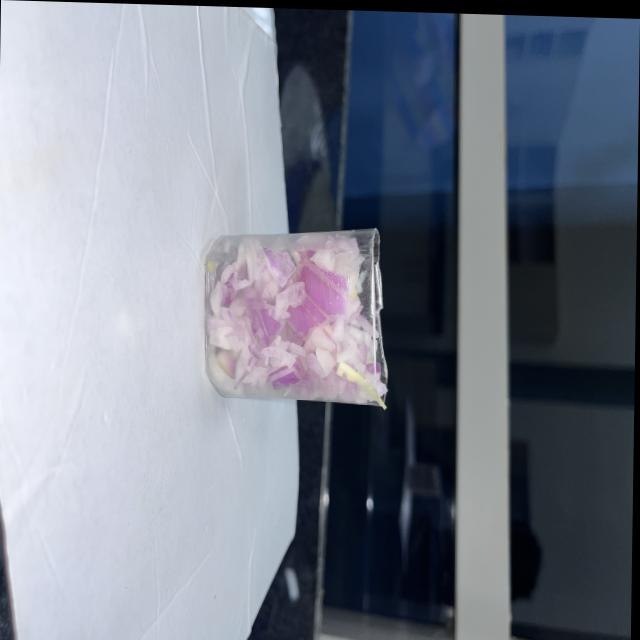sliced_onions: (207, 229, 388, 405)
